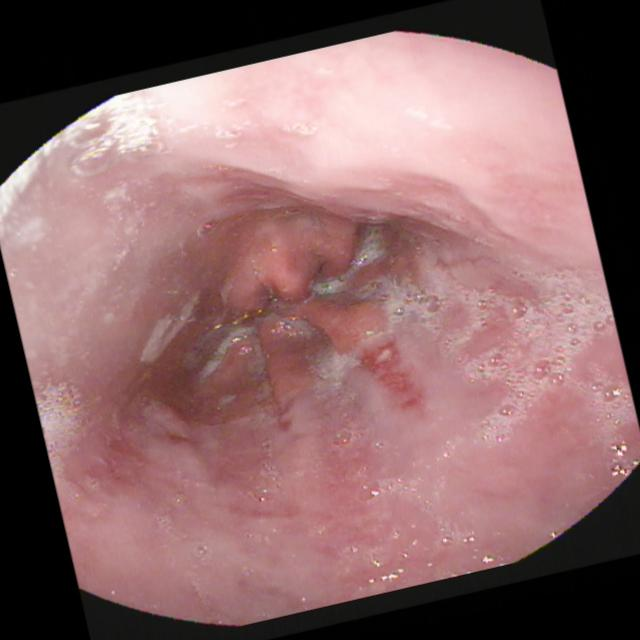esophagitis: (85, 157, 473, 495)
